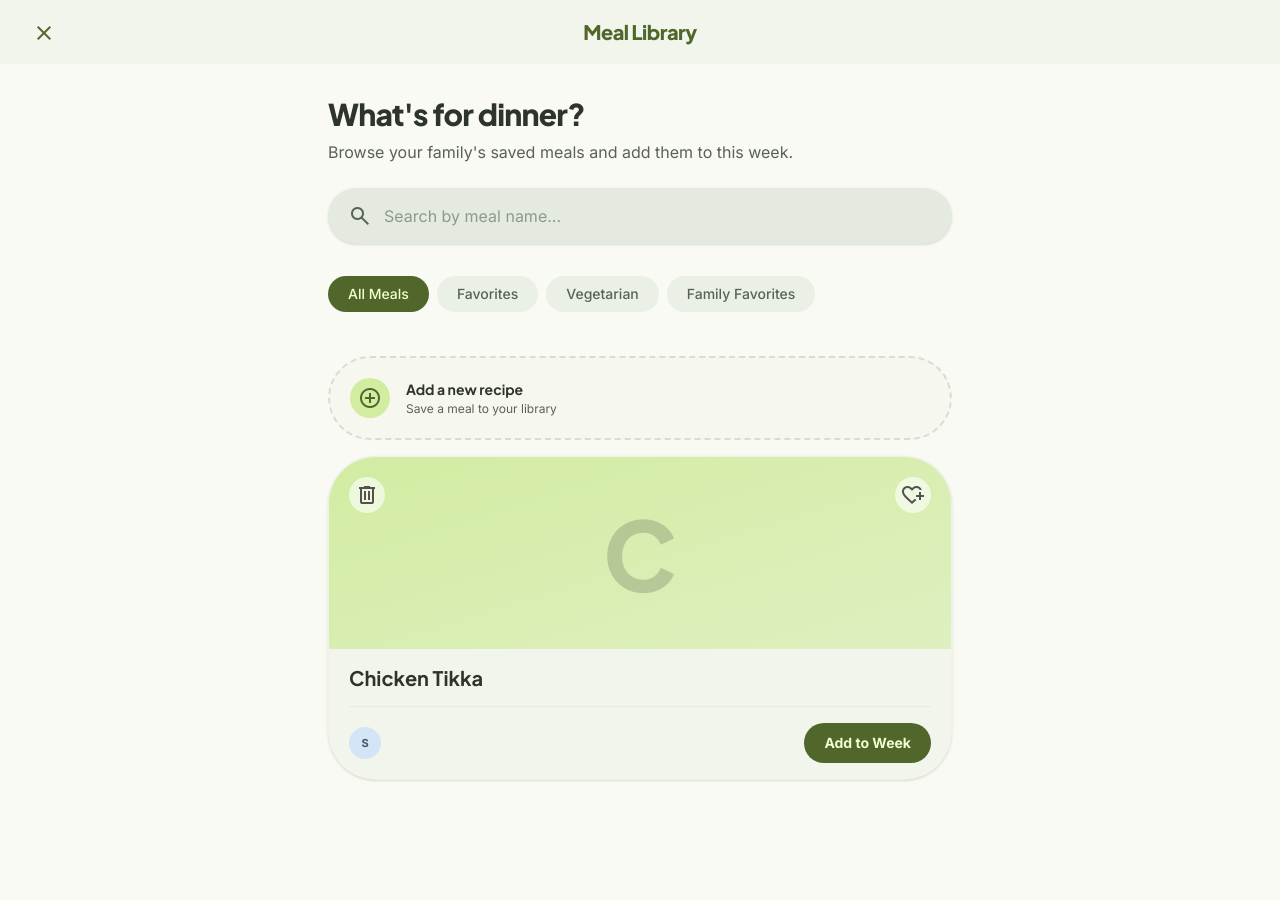
Test case: MealLibrary › dismisses the confirmation modal without deleting when Cancel is clicked
This screenshot has width=1280, height=900.
Check: the heading "Chicken Tikka" is shown, box 349,665 -> 483,690
Click the 7th button: (367, 495) 349,477 -> 385,513
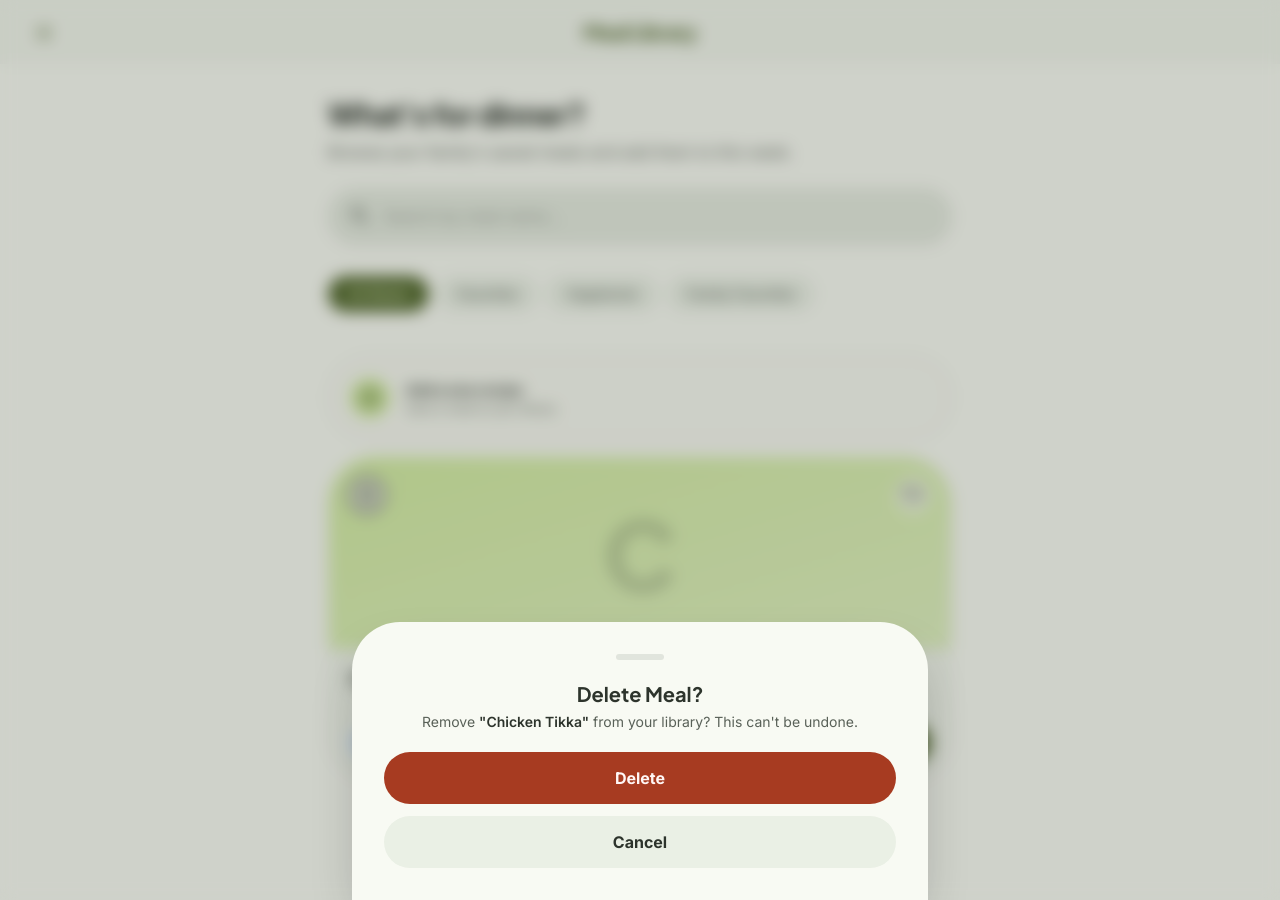
Click the button "Cancel": (640, 842) 384,816 -> 896,868
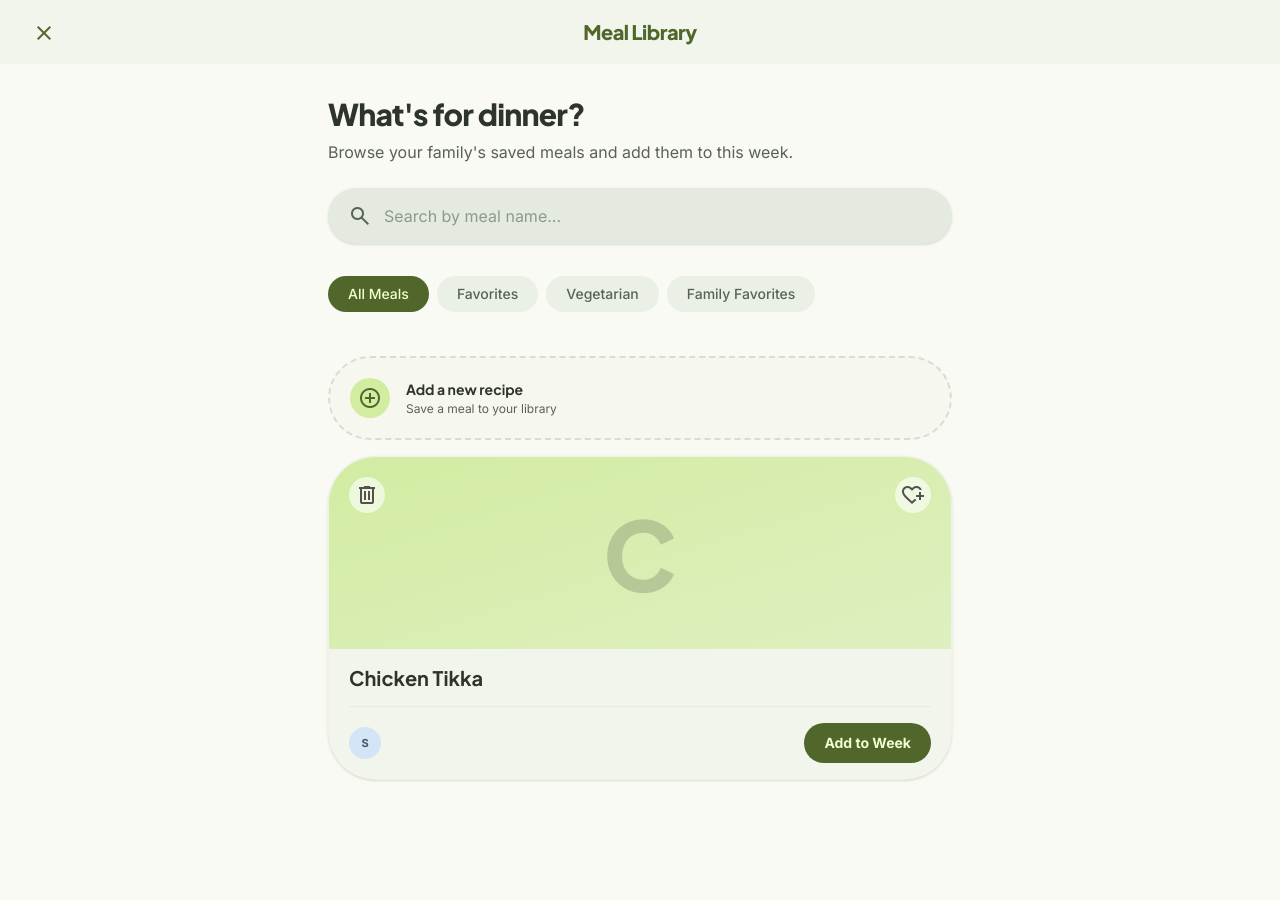
Check: the heading "Delete Meal?" is gone
